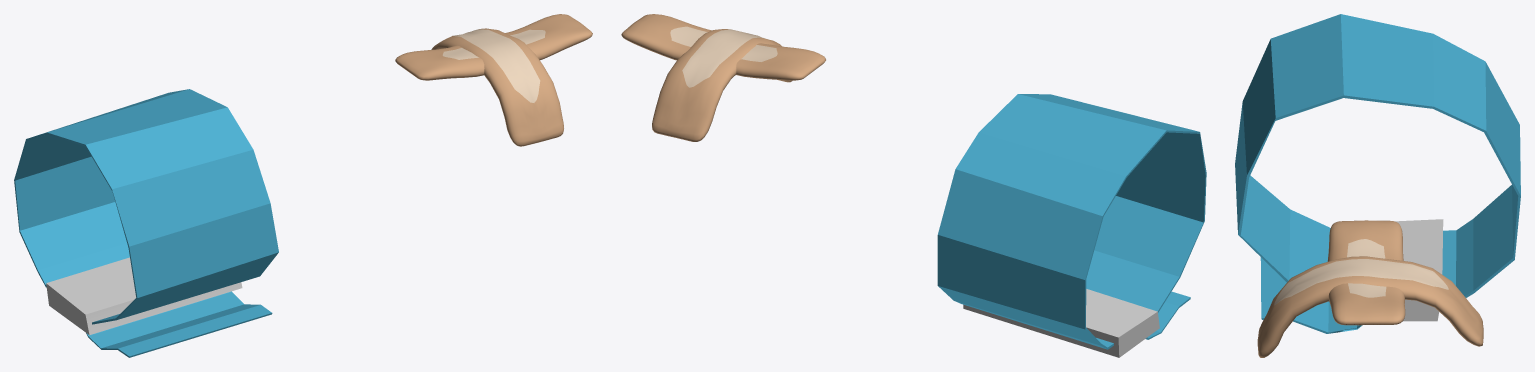
File: garroteebandeide.fbx
The picture shows the model from 3 angles, left to right: view 1: azimuth 30°, elevation 25°; view 2: azimuth 150°, elevation 25°; view 3: azimuth 270°, elevation 25°; orthographic projection. The views are drawn at different scales.
Parts seen in each view (by area): view 1: Cube, Plane.001; view 2: Cube, Plane.001; view 3: Cube, Plane.001.
Boxes of the visible parts, x1,y1,x2,y2 form: Cube: [14, 89, 278, 357]; Plane.001: [395, 14, 592, 146]; Cube: [937, 94, 1206, 357]; Plane.001: [621, 14, 825, 141]; Cube: [1235, 14, 1520, 333]; Plane.001: [1257, 220, 1483, 357].
Size of the model in its own units: 145 by 55.74 by 59.21.
